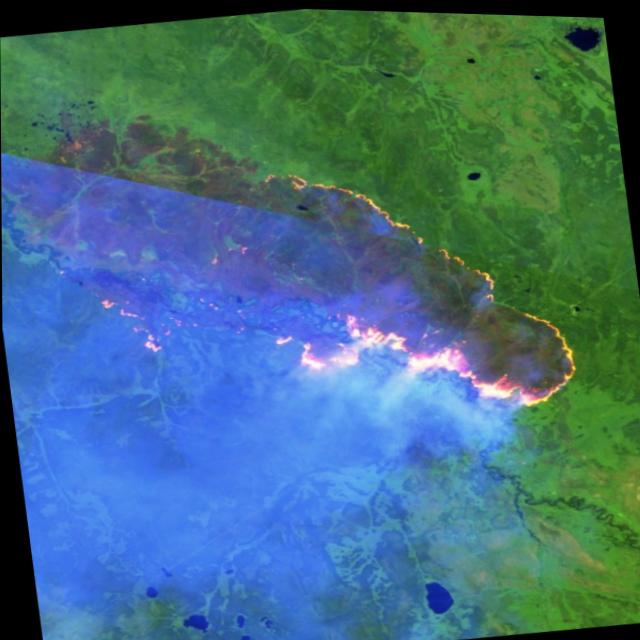fire: (35, 124, 589, 467)
